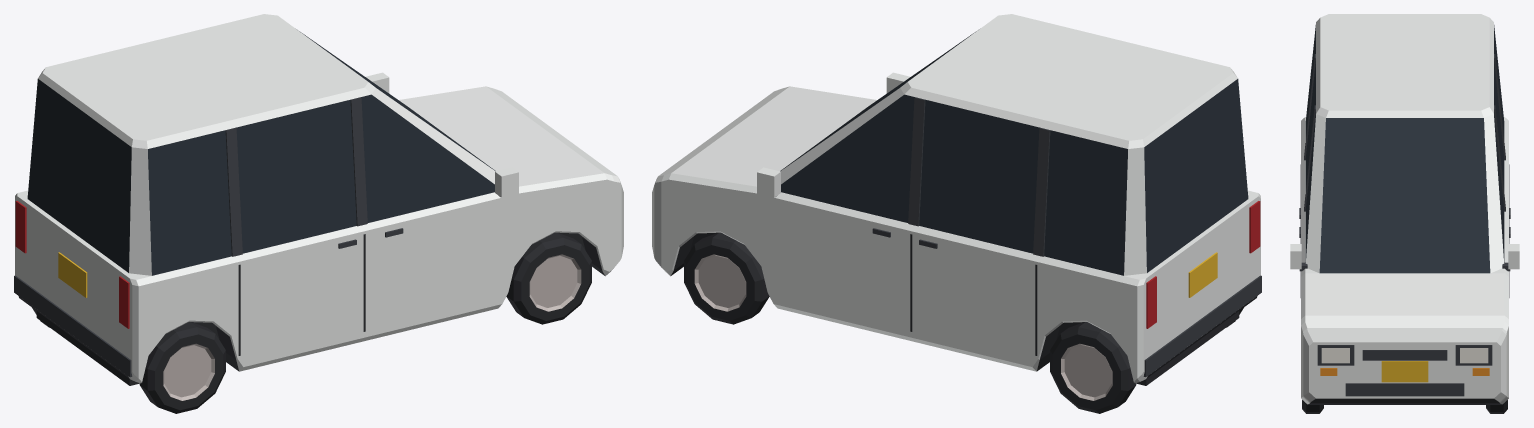
The model's file is SM_Street_KeiCar_Wagon_White_01.gltf.
3 views of the same model, side by side, from view 1: azimuth 30°, elevation 25°; view 2: azimuth 150°, elevation 25°; view 3: azimuth 270°, elevation 25° (orthographic). The views are drawn at different scales.
Parts seen in each view (by area): view 1: SM_Street_KeiCar_Wagon_White_01; view 2: SM_Street_KeiCar_Wagon_White_01; view 3: SM_Street_KeiCar_Wagon_White_01.
Boxes of the visible parts, <box> form: SM_Street_KeiCar_Wagon_White_01: <box>14,14,623,413</box>; SM_Street_KeiCar_Wagon_White_01: <box>652,14,1261,413</box>; SM_Street_KeiCar_Wagon_White_01: <box>1290,14,1519,413</box>.
Size of the model in its own units: 3.42 by 1.79 by 1.62.
Materials: 1 (1 with a texture image).
